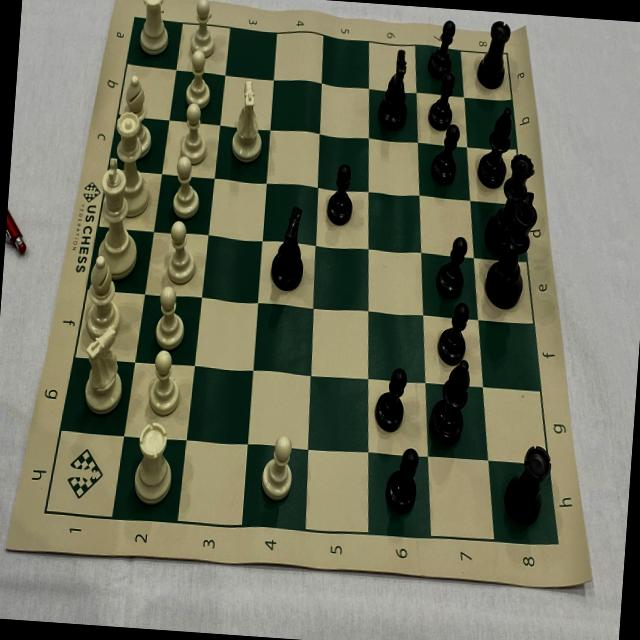black-bishop: (426, 358, 471, 448), (477, 103, 513, 191)
black-king: (482, 188, 538, 312)
black-knight: (268, 200, 310, 293), (375, 46, 413, 130)
black-pawn: (372, 364, 409, 436), (384, 444, 419, 514), (436, 302, 474, 365), (435, 231, 467, 299), (324, 160, 356, 226), (430, 122, 460, 188), (427, 15, 458, 78), (426, 70, 456, 132)
black-queen: (482, 148, 538, 256)
black-rook: (500, 441, 552, 528), (476, 18, 509, 90)
white-bishop: (83, 256, 124, 342), (120, 73, 156, 160)
white-king: (93, 156, 142, 278)
white-knight: (77, 324, 126, 417), (228, 78, 265, 170)
white-pawn: (258, 430, 296, 504), (146, 348, 182, 417), (152, 282, 186, 348), (164, 219, 198, 283), (170, 154, 202, 220), (178, 104, 208, 164), (185, 49, 214, 108), (188, 0, 216, 57)
white-queen: (108, 108, 154, 218)
white-rook: (130, 418, 174, 507), (137, 0, 169, 55)
